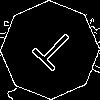T: (25, 25, 78, 79)
